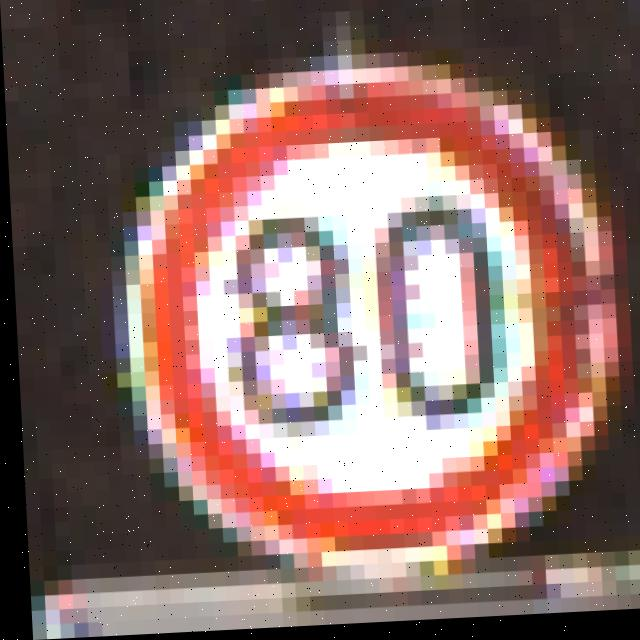speed_limit_80: (138, 43, 616, 601)
